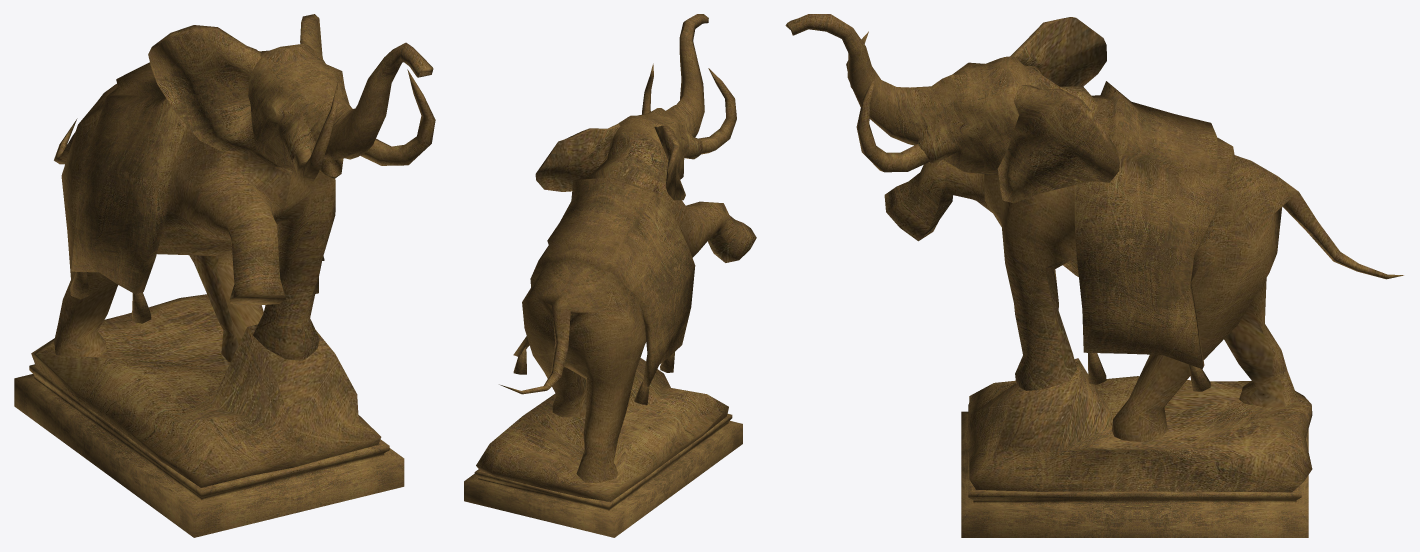
File: Figure 1.FBX
The picture shows the model from 3 angles, left to right: view 1: azimuth 30°, elevation 25°; view 2: azimuth 150°, elevation 25°; view 3: azimuth 270°, elevation 25°; orthographic projection. The views are drawn at different scales.
Visible parts, largest first — view 1: figure 1; view 2: figure 1; view 3: figure 1.
Boxes of the visible parts, bbox=[...] form: figure 1: bbox=[14, 14, 435, 537]; figure 1: bbox=[464, 14, 756, 537]; figure 1: bbox=[785, 14, 1403, 537].
Bounding box in the file's own units: 14.17 × 32.62 × 37.2.
Materials: 1 (1 with a texture image).
